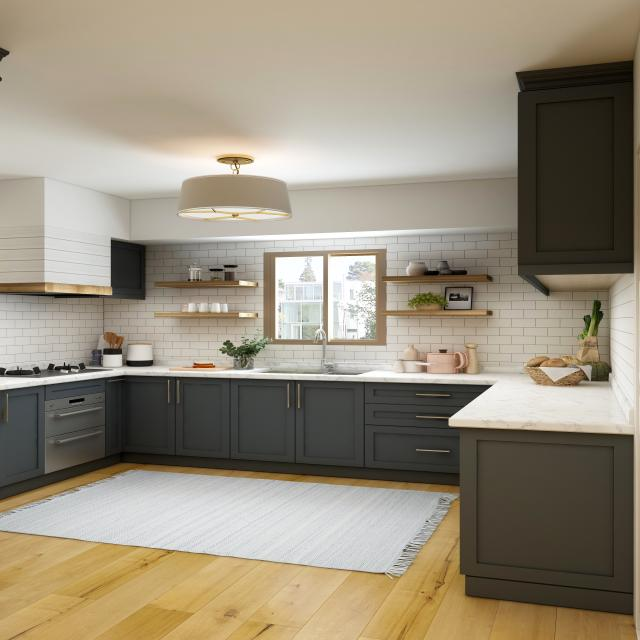floor: (0, 461, 640, 640)
